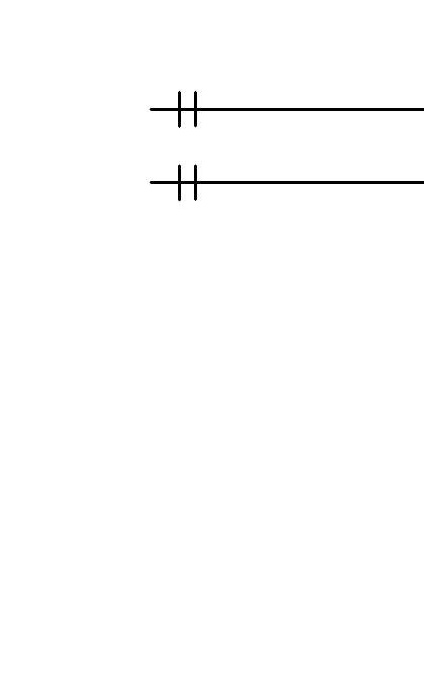115_buffer: (178, 91, 197, 128), (178, 164, 197, 201)
